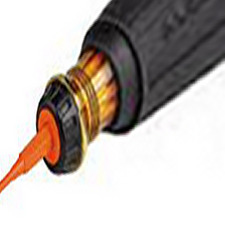Screwdriver: (2, 2, 225, 195)
